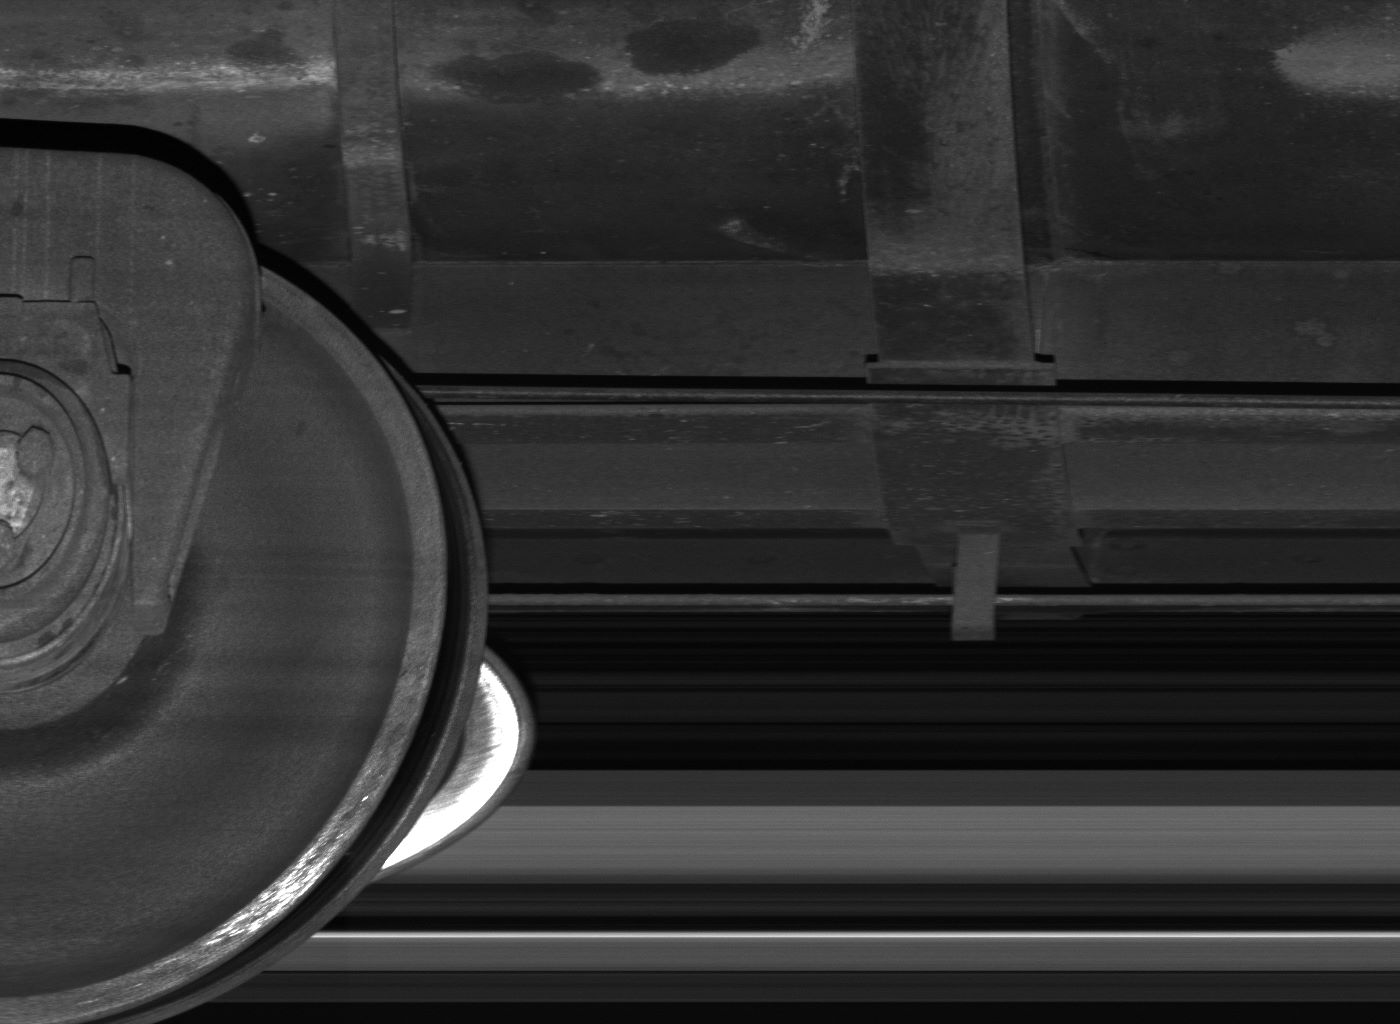normal: (952, 530, 998, 641)
